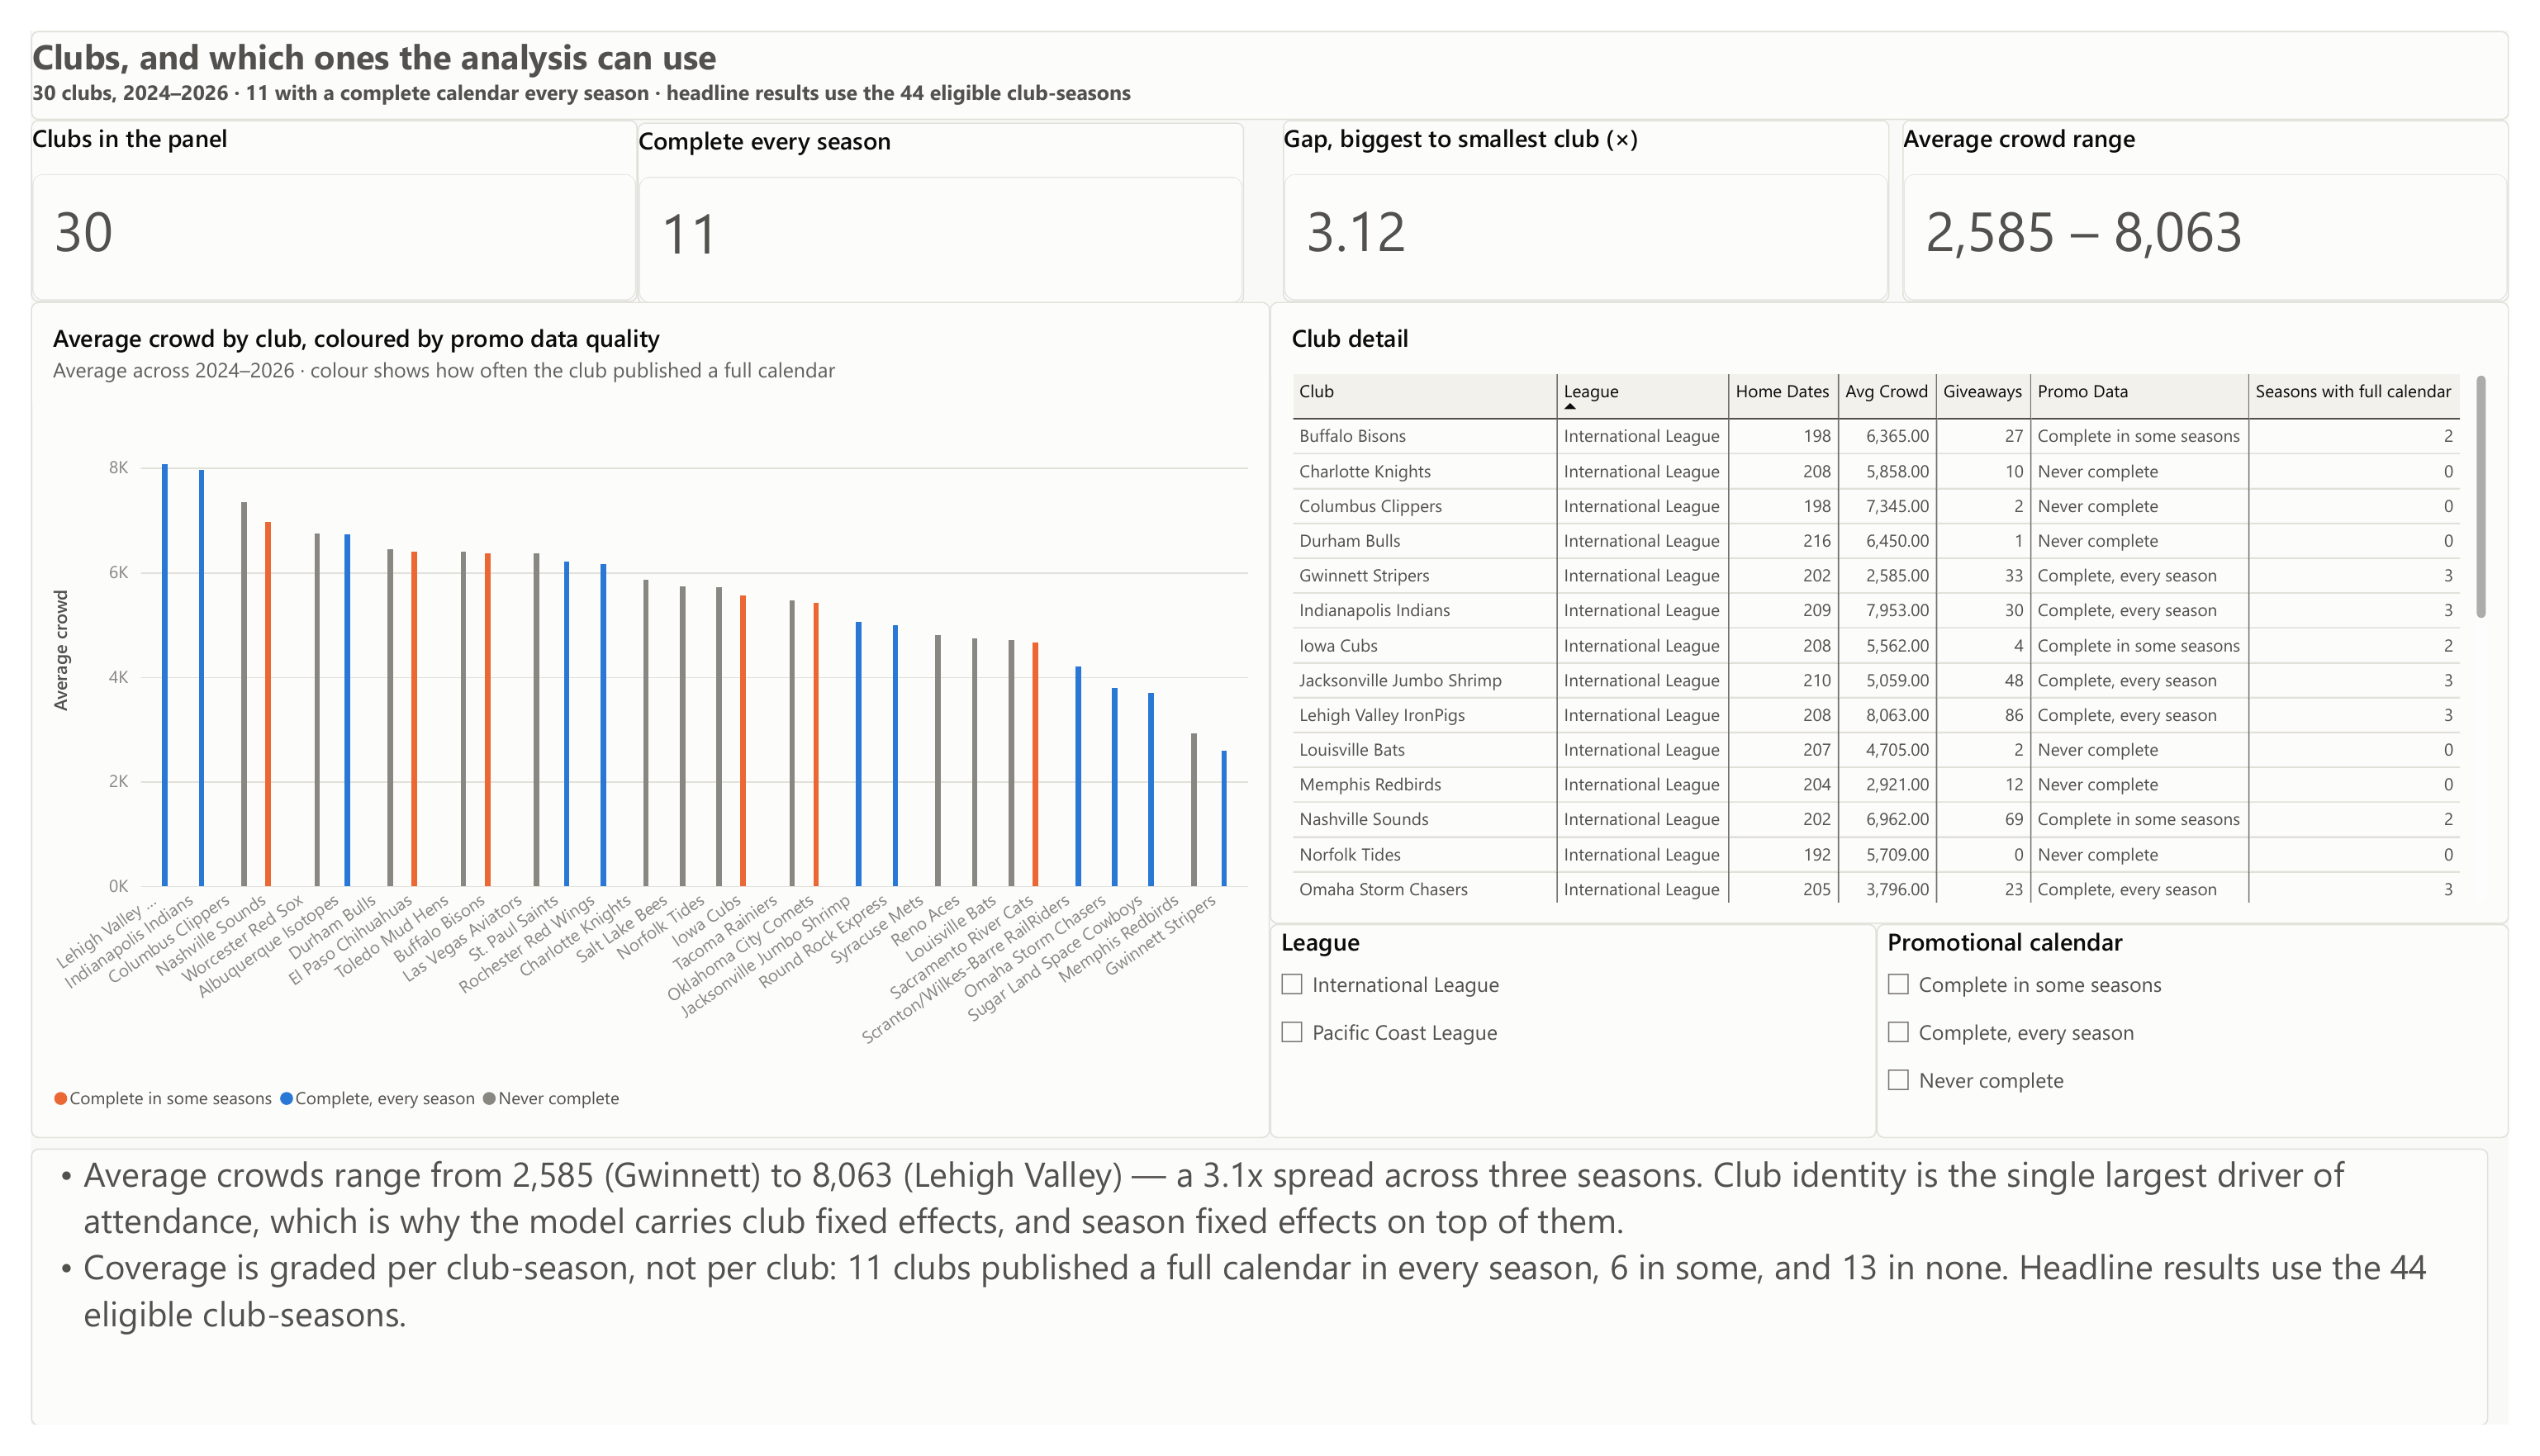

The page's visual inventory and layout, read from the dashboard file:
{"tool":"powerbi","page":{"name":"Clubs","canvas":[1920,1080],"ordinal":4},"visuals":[{"type":"cardVisual","title":"Clubs in the panel","fields":{"Data":["dim_club.Club Count"]},"box":[0,69.4,469.8,140.9],"z":0},{"type":"cardVisual","title":"Complete every season","fields":{"Data":["dim_club.Clubs Complete Every Season"]},"box":[469.8,71.5,469.8,140.9],"z":1000},{"type":"clusteredColumnChart","title":"Average crowd by club, coloured by promo data quality","fields":{"Category":["dim_club.club"],"Series":["dim_club.coverage_label"],"Y":["dim_club.Avg Club Crowd"]},"box":[0,210.4,960,647.5],"z":2000},{"type":"tableEx","title":"Club detail","fields":{"Values":["dim_club.club","dim_club.league","dim_club.home_dates","dim_club.Avg Club Crowd","dim_club.giveaways","dim_club.coverage_label","dim_club.eligible_seasons"]},"box":[960,210.4,960,482],"z":3000},{"type":"slicer","fields":{"Values":["dim_club.league"]},"box":[960,692.4,469.8,165.4],"z":4000},{"type":"slicer","fields":{"Values":["dim_club.coverage_label"]},"box":[1429.8,692.4,490,165.4],"z":5000},{"type":"textbox","box":[0,866,1903.7,214.5],"z":6000},{"type":"cardVisual","title":"Gap, biggest to smallest club (×)","fields":{"Data":["dim_club.Attendance Spread"]},"box":[970.2,69.4,469.8,140.9],"z":7000},{"type":"cardVisual","title":"Average crowd range","fields":{"Data":["dim_club.Crowd Range"]},"box":[1450.2,69.4,469.8,140.9],"z":8000},{"type":"textbox","box":[0,0,1920,69.4],"z":9000}]}

Visuals, with their boxes on the page's 1920x1080 design canvas (x1, y1, x2, y2). These are canvas units, not pixel positions in the 2540x1456 screenshot, which may show the page scaled, cropped or inside an application window:
"Clubs in the panel" cardVisual: (0, 69, 470, 210)
"Complete every season" cardVisual: (470, 72, 940, 212)
"Average crowd by club, coloured by promo data quality" clusteredColumnChart: (0, 210, 960, 858)
"Club detail" tableEx: (960, 210, 1920, 692)
slicer - dim_club.league: (960, 692, 1430, 858)
slicer - dim_club.coverage_label: (1430, 692, 1920, 858)
textbox: (0, 866, 1904, 1080)
"Gap, biggest to smallest club (×)" cardVisual: (970, 69, 1440, 210)
"Average crowd range" cardVisual: (1450, 69, 1920, 210)
textbox: (0, 0, 1920, 69)
